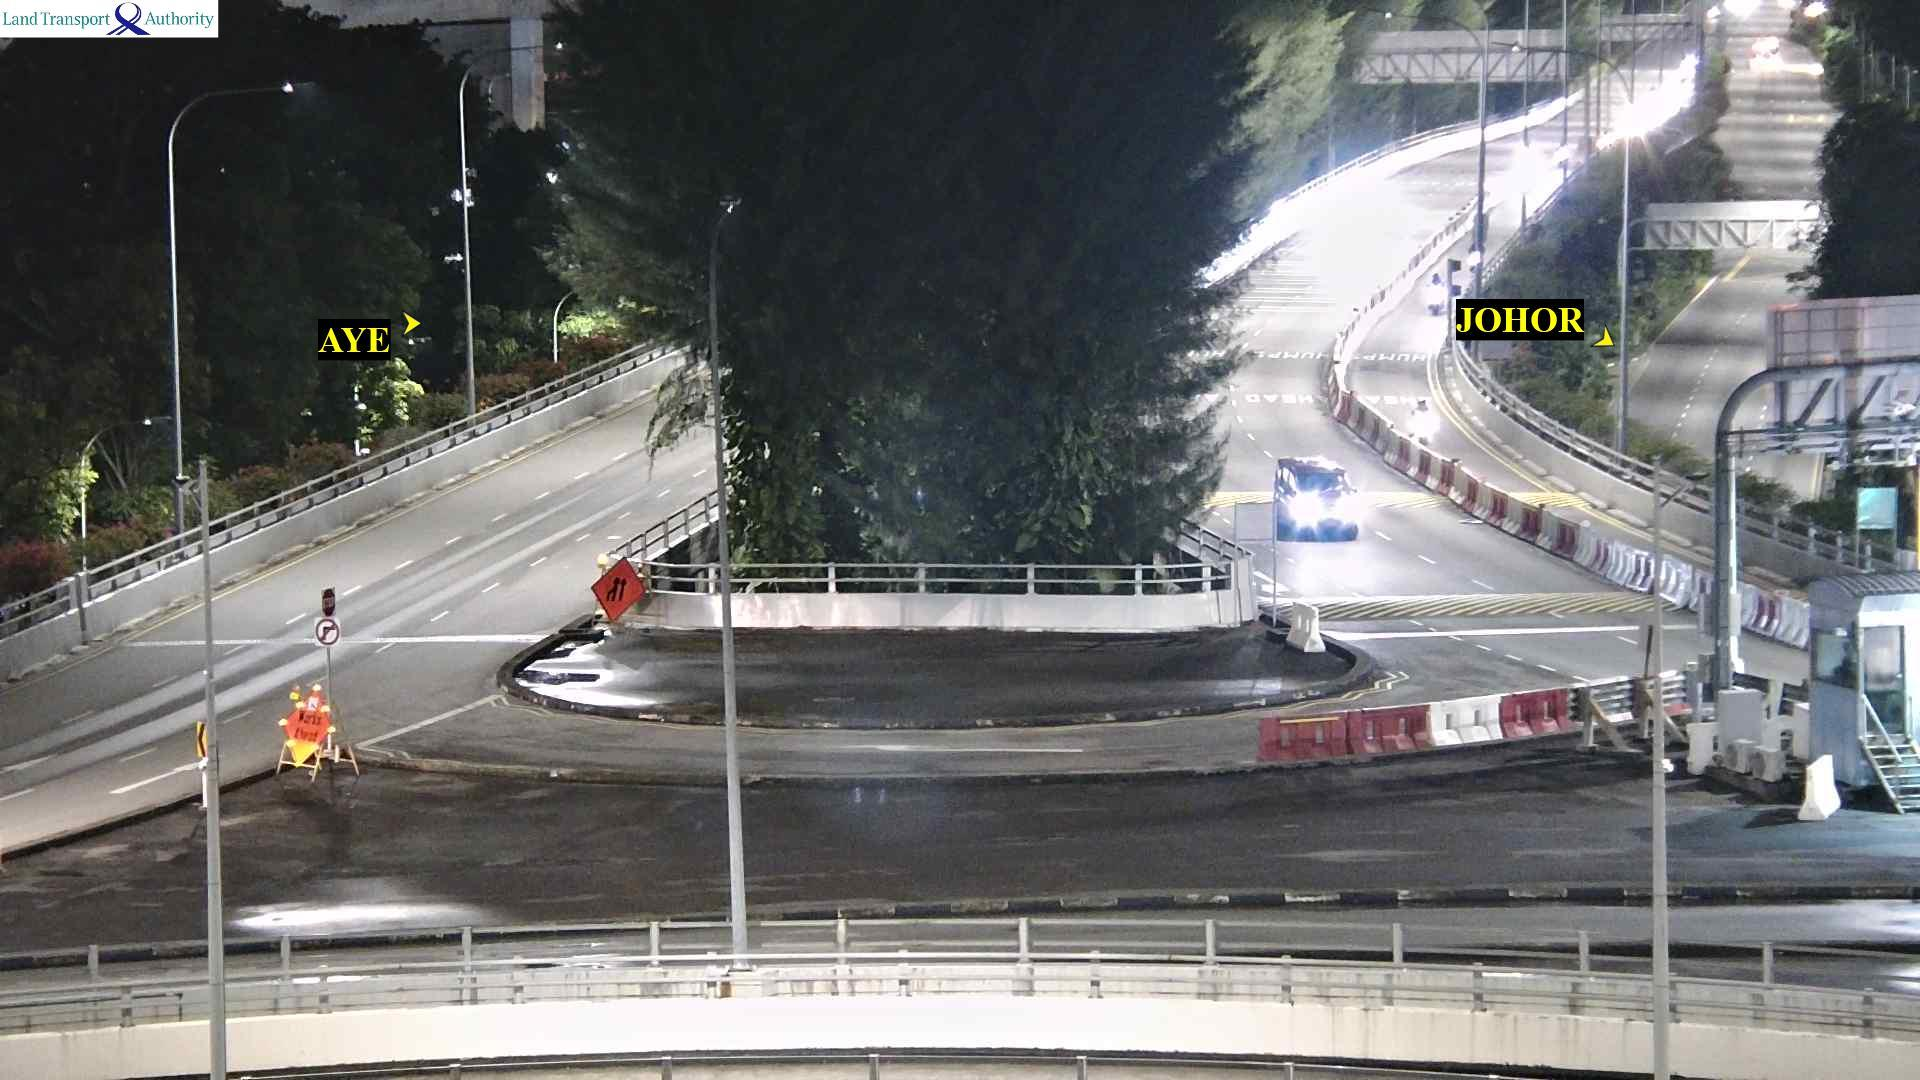vehicle-secondlink-johor: (1277, 455, 1356, 531)
